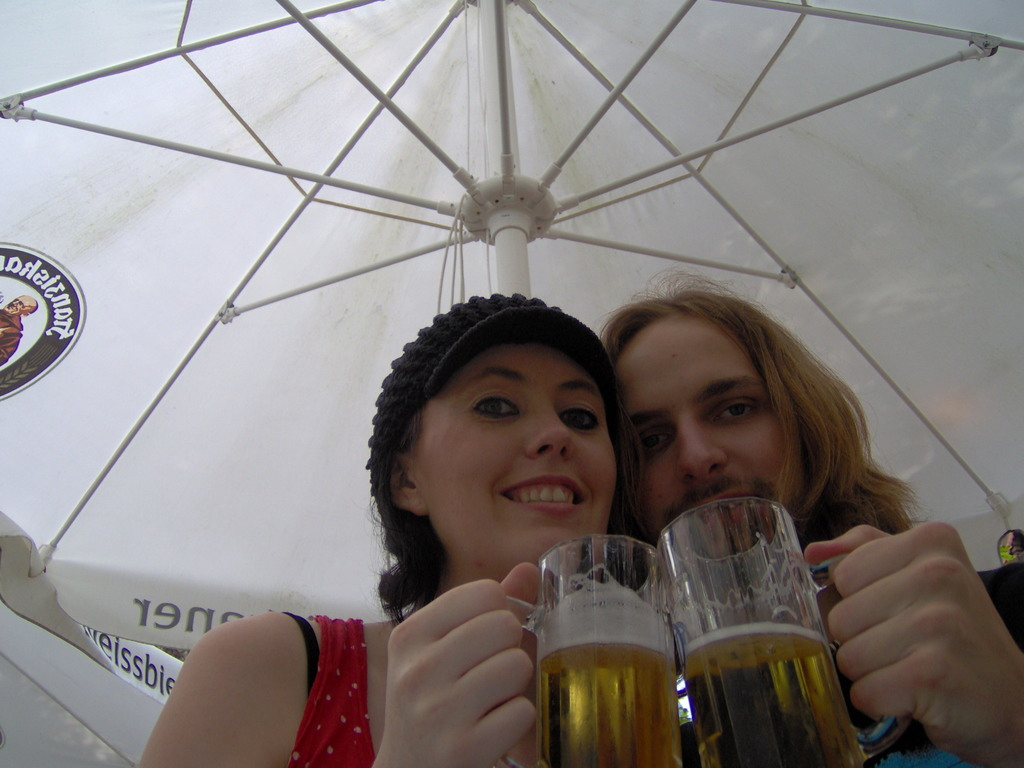Beer: (639, 494, 922, 767), (496, 530, 689, 767)
